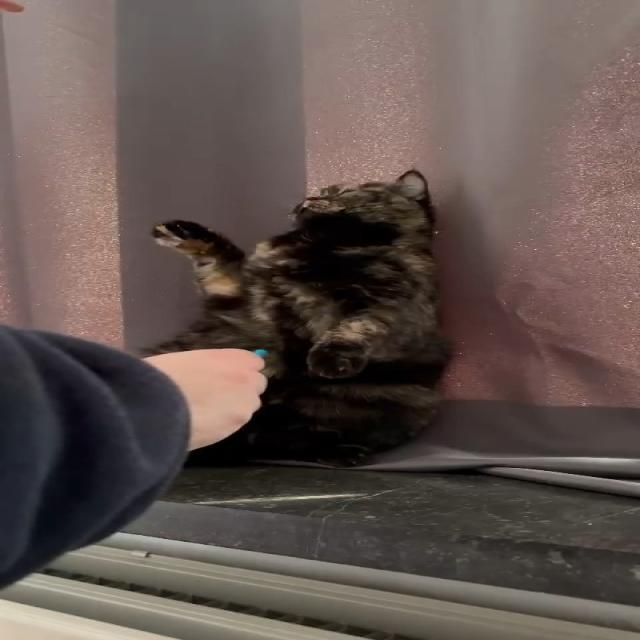authorized: (138, 168, 454, 468)
